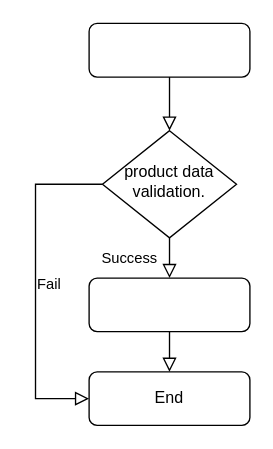
The diagram is 273 pixels wide and 449 high, and some of its shapes have lost their labels. The centre of each missing label's shape, as x and y in pixels:
"Audience visited advertiser web page." belongs at (169,49).
"Insert or Update ShopData Table" belongs at (169,304).
